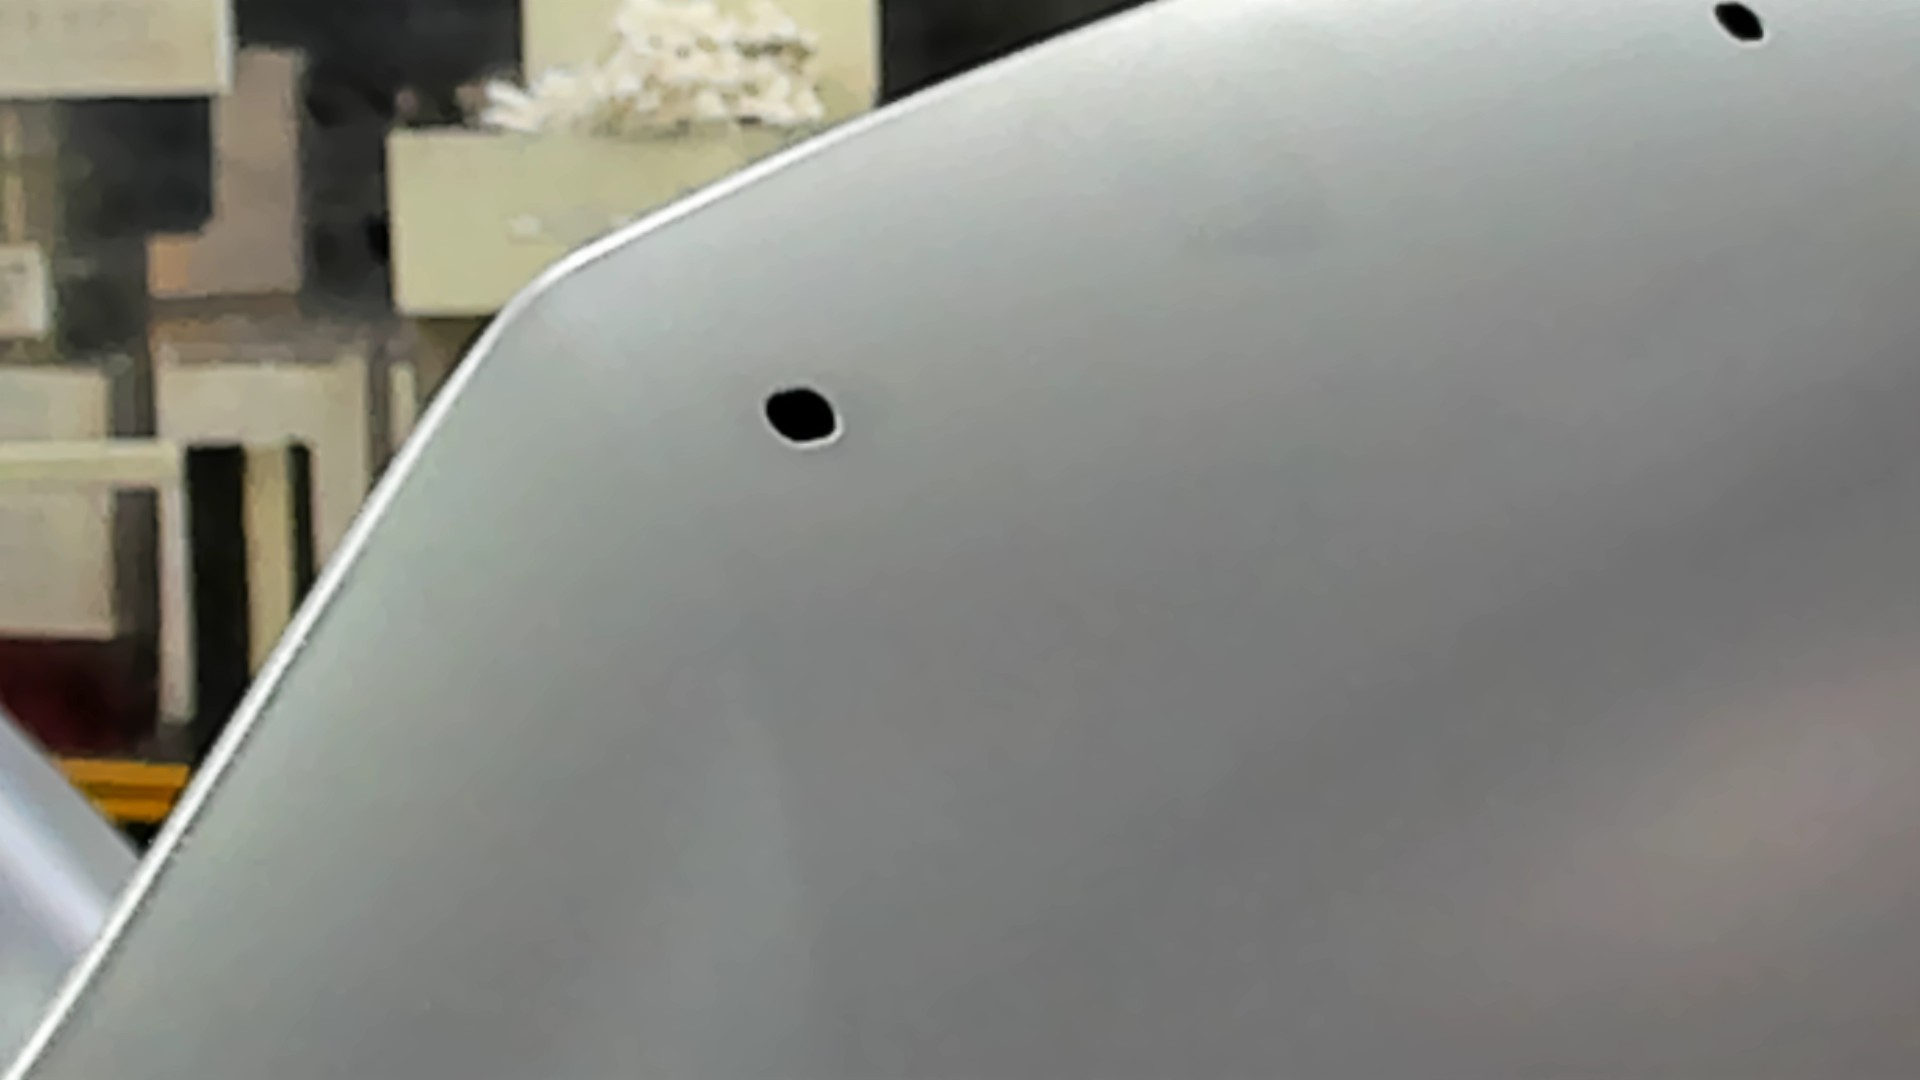amorfo: (760, 378, 847, 451), (1709, 1, 1771, 47)
